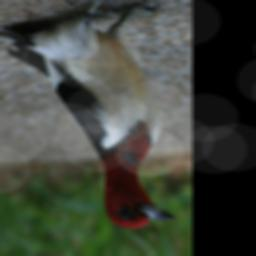Woodpecker: (0, 0, 181, 231)
